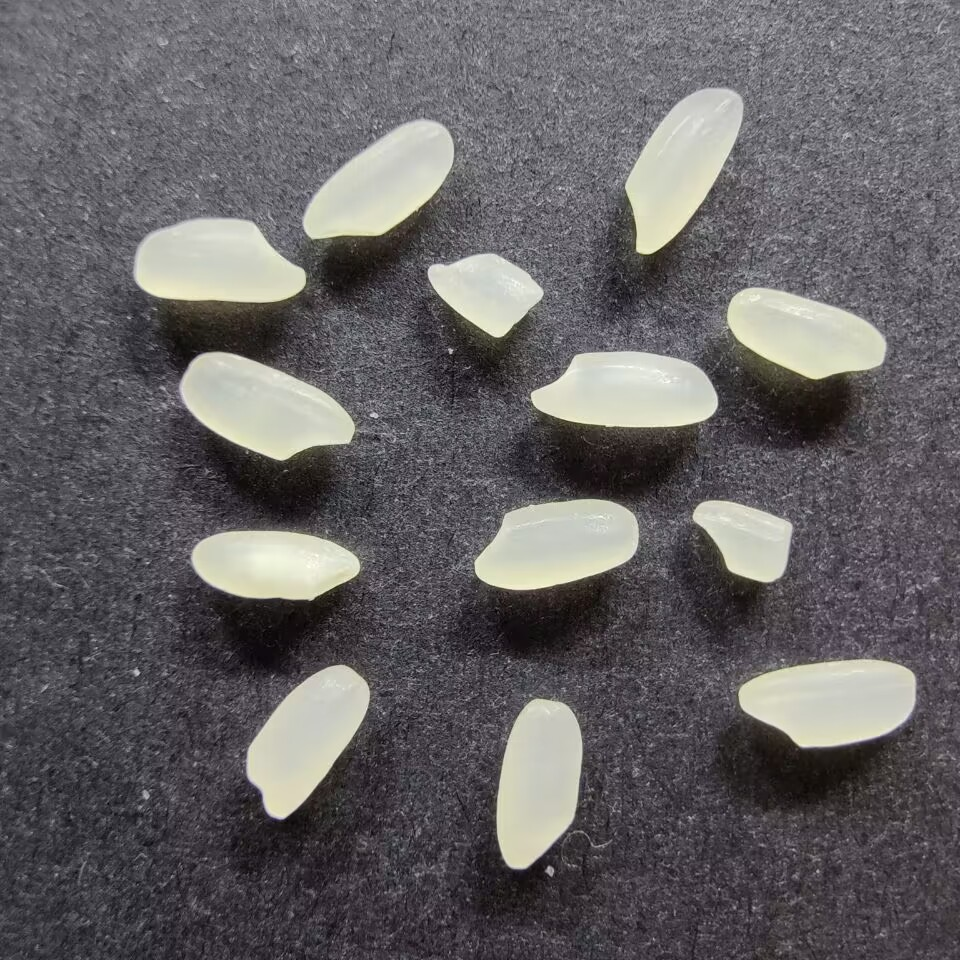broken: (423, 251, 546, 339), (690, 498, 794, 586)
rice: (623, 85, 744, 258), (178, 350, 355, 464), (244, 663, 370, 820), (303, 118, 456, 244), (735, 658, 917, 749), (473, 497, 641, 592), (493, 697, 583, 871), (725, 286, 888, 381), (131, 217, 308, 304), (527, 351, 720, 428), (189, 528, 362, 603)
